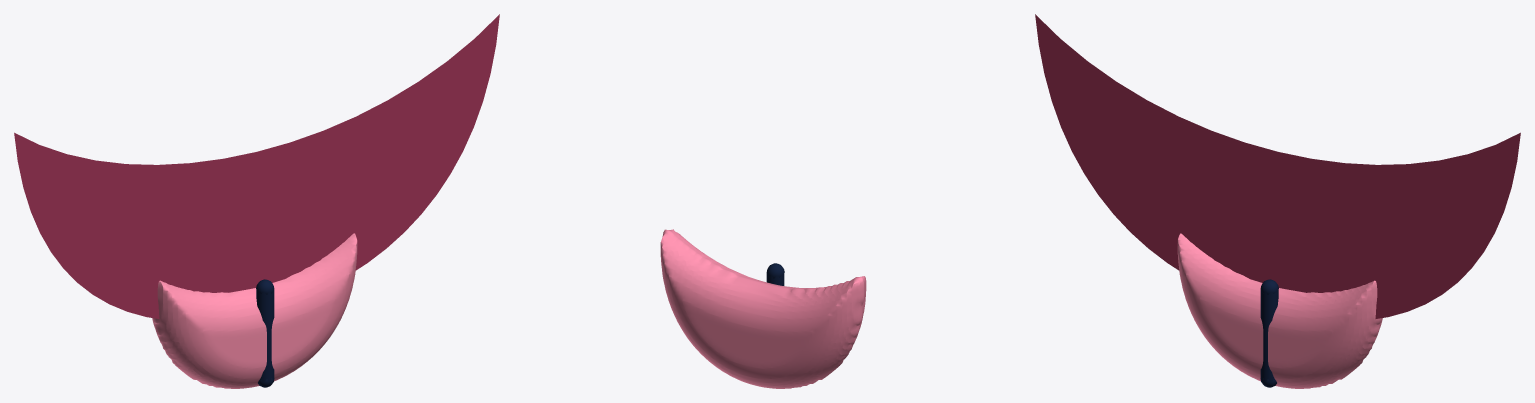
The model's file is mouth-tongue.glb.
The picture shows the model from 3 angles, left to right: view 1: azimuth 30°, elevation 25°; view 2: azimuth 150°, elevation 25°; view 3: azimuth 330°, elevation 25°; orthographic projection.
Parts seen in each view (by area): view 1: mouth_0_flat, mouth_1_solid, mouth_2_line; view 2: mouth_1_solid; view 3: mouth_0_flat, mouth_1_solid, mouth_2_line.
Boxes of the visible parts, bbox=[...] form: mouth_0_flat: bbox=[14, 14, 499, 318]; mouth_1_solid: bbox=[152, 233, 357, 388]; mouth_2_line: bbox=[256, 279, 274, 387]; mouth_1_solid: bbox=[660, 229, 866, 388]; mouth_0_flat: bbox=[1035, 14, 1520, 318]; mouth_1_solid: bbox=[1177, 233, 1382, 388]; mouth_2_line: bbox=[1260, 279, 1278, 387].
Size of the model in its own units: 0.272 by 0.1686 by 0.0325.
